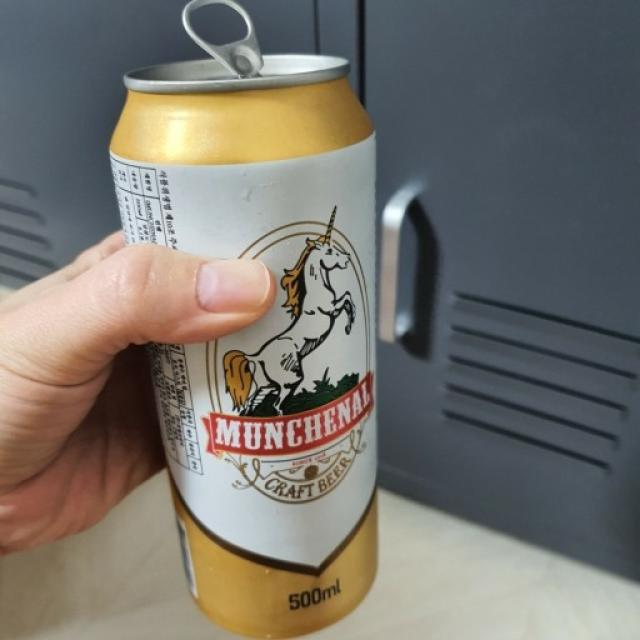Cans: (78, 0, 434, 640)
